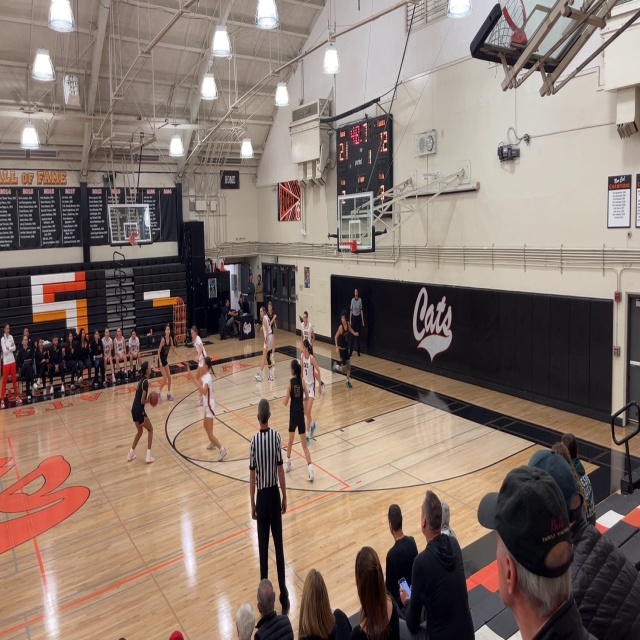Basketball: (149, 392, 159, 406)
